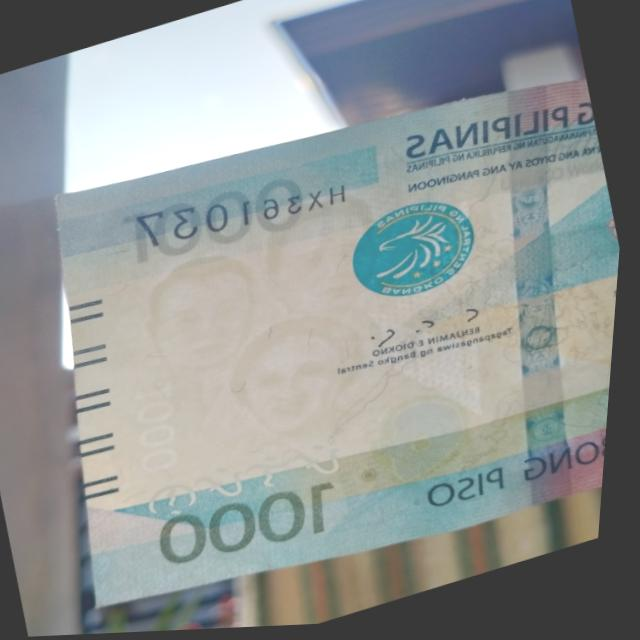security_thread: (430, 81, 634, 514)
see_through_mark: (144, 420, 376, 540)
serial_number: (124, 143, 376, 273)
value_watermark: (119, 367, 213, 481)
watermark: (124, 180, 436, 484)
